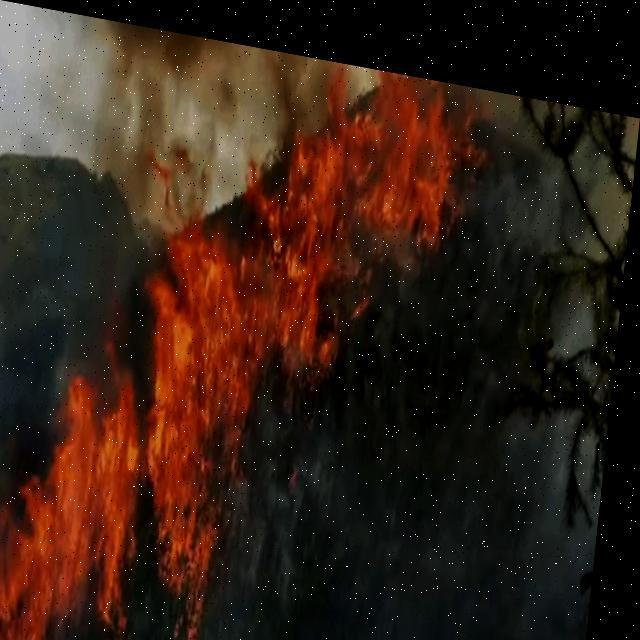Fire: (0, 0, 500, 639)
